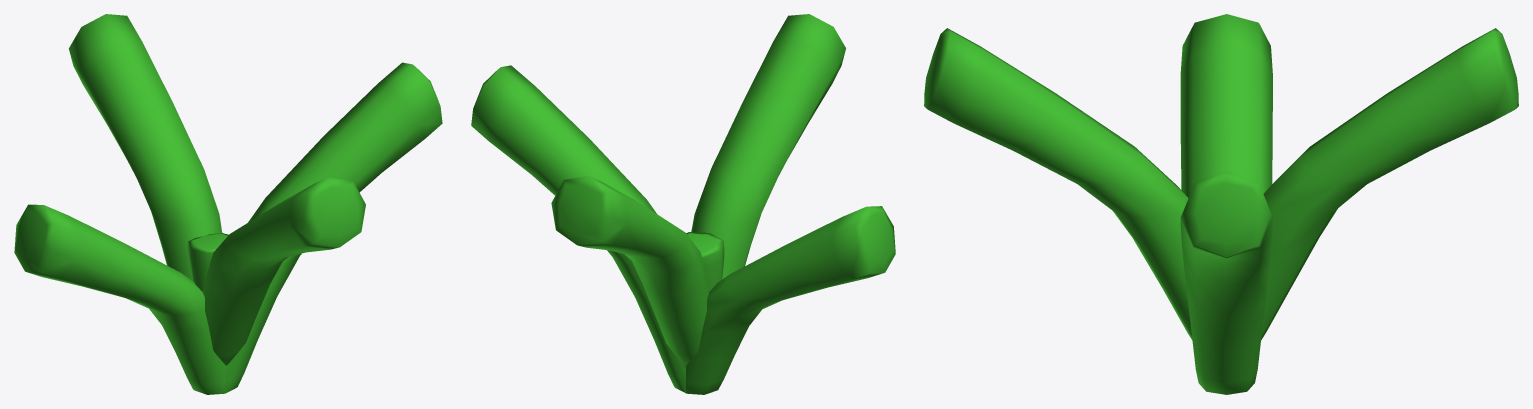
The model's file is 1ºFase_Zanahoria.fbx.
The picture shows the model from 3 angles, left to right: view 1: azimuth 30°, elevation 25°; view 2: azimuth 150°, elevation 25°; view 3: azimuth 270°, elevation 25°; orthographic projection. The views are drawn at different scales.
Visible parts, largest first — view 1: Cube.001, Cube.002, Cube, Cube.003, Cube.004; view 2: Cube, Cube.002, Cube.001, Cube.003, Cube.004; view 3: Cube, Cube.001, Cube.003, Cube.002.
Boxes of the visible parts, x1,y1,x2,y2 form: Cube.001: [69, 14, 227, 367]; Cube.002: [14, 204, 235, 394]; Cube: [203, 177, 365, 365]; Cube.003: [225, 62, 442, 392]; Cube.004: [187, 233, 228, 291]; Cube: [684, 14, 845, 367]; Cube.002: [685, 206, 895, 394]; Cube.001: [551, 176, 708, 365]; Cube.003: [471, 65, 686, 392]; Cube.004: [686, 232, 724, 291]; Cube: [924, 28, 1192, 339]; Cube.001: [1261, 28, 1518, 340]; Cube.003: [1180, 171, 1272, 394]; Cube.002: [1180, 14, 1272, 197].
Bounding box in the file's own units: 66 × 45.33 × 68.87.
